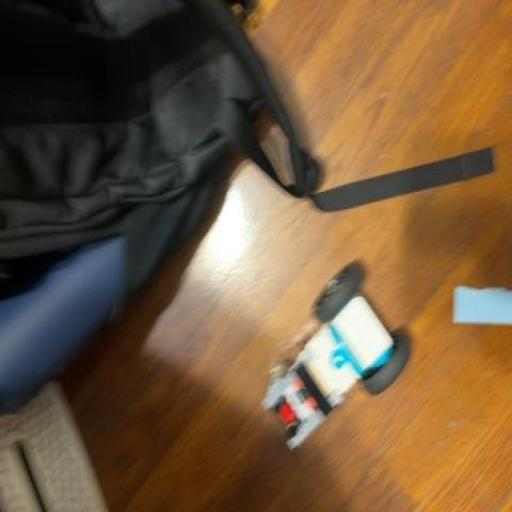Opponent: (258, 258, 414, 450)
